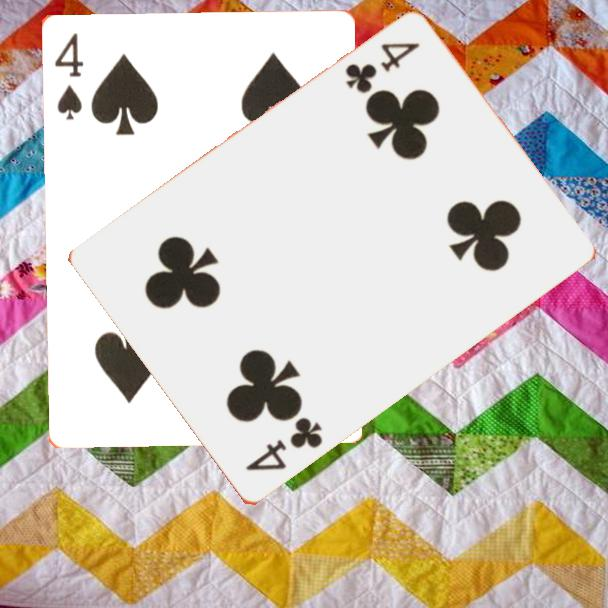c04: (241, 414, 326, 475), (341, 39, 423, 97)
s04: (50, 29, 86, 122)
